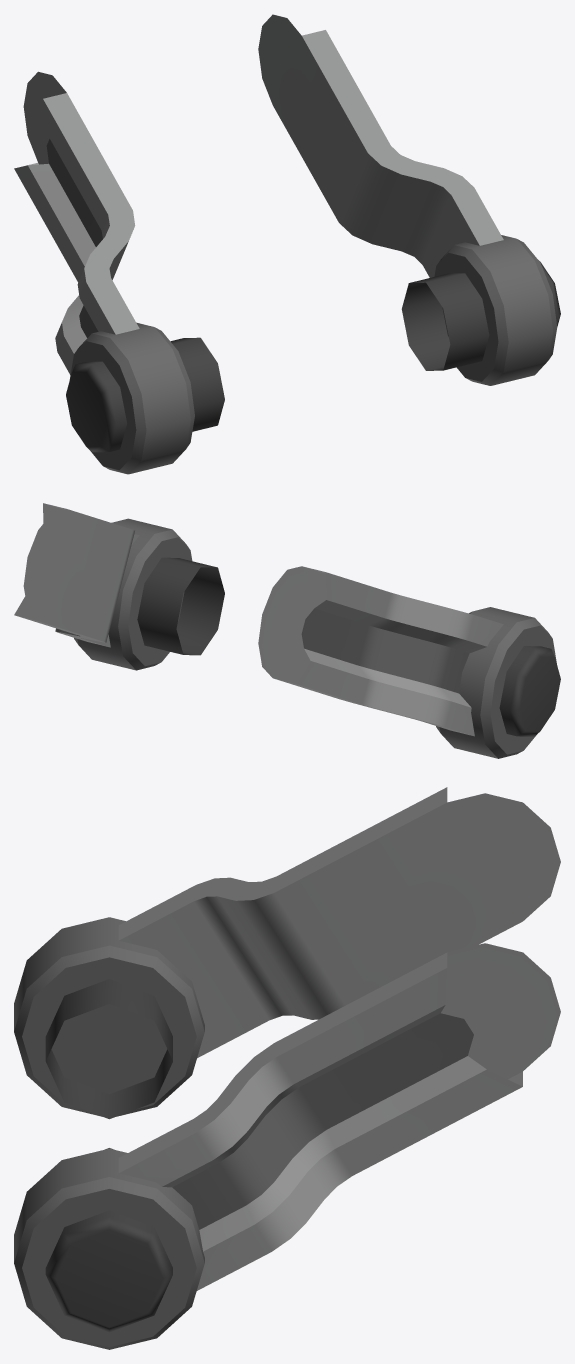
Rendered from Turret_012_Part_02.fbx.
3 renders of one model, top to bottom at view 1: azimuth 30°, elevation 25°; view 2: azimuth 150°, elevation 25°; view 3: azimuth 270°, elevation 25°, orthographic. The views are drawn at different scales.
Parts seen in each view (by area): view 1: Turret_012_Part_02; view 2: Turret_012_Part_02; view 3: Turret_012_Part_02.
Boxes of the visible parts, x1,y1,x2,y2 form: Turret_012_Part_02: (14, 14, 560, 474); Turret_012_Part_02: (14, 503, 560, 758); Turret_012_Part_02: (14, 787, 560, 1349).
Bounding box in the file's own units: 91.64 × 73.01 × 51.81.
